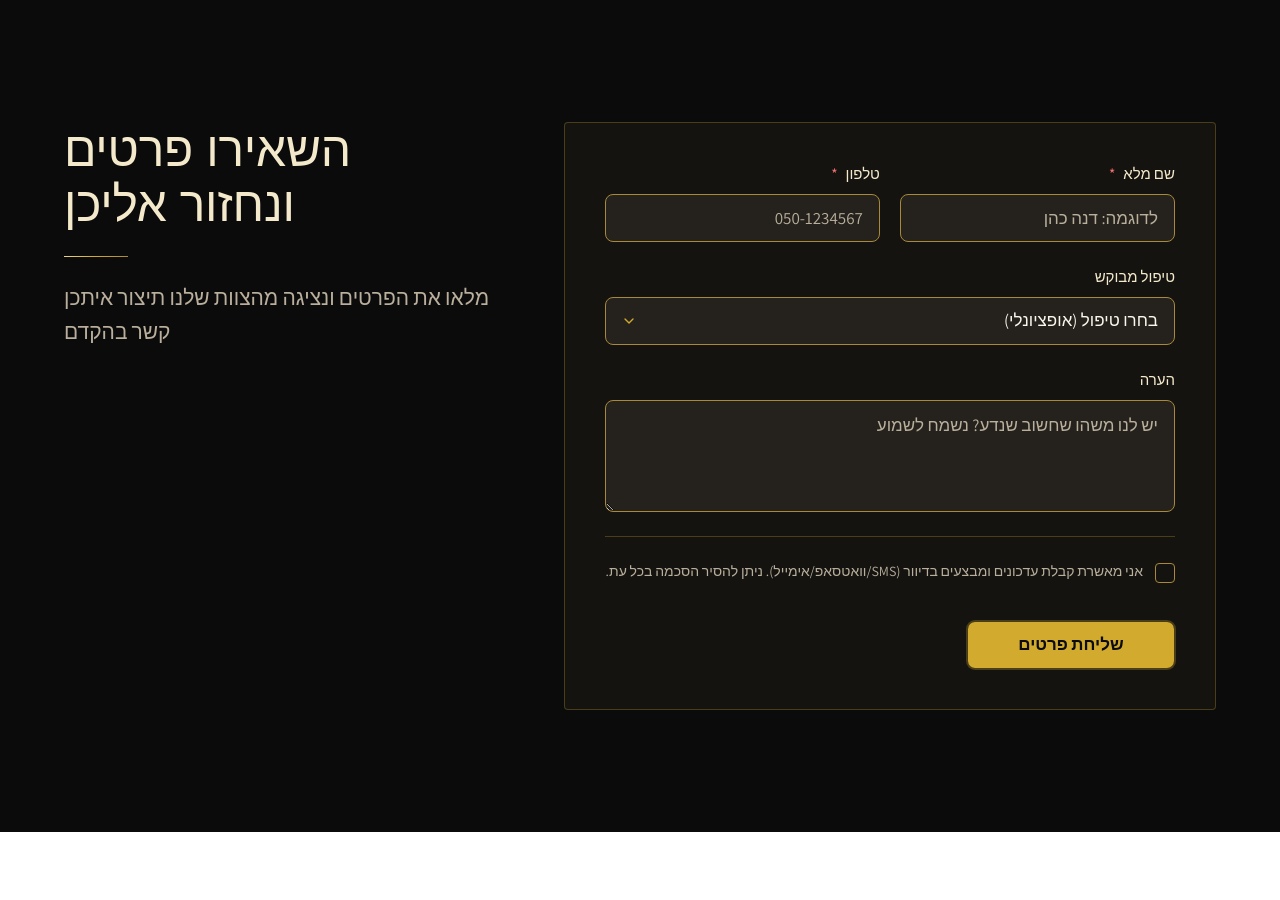
ContactFormSection — success / error states (2.15) › server error: role=alert, error-light tokens, server message shown
Type "בדיקה" into the field labelled "שם מלא *".
click(1037, 218); type("בדיקה")  # box [900,194,1175,242]
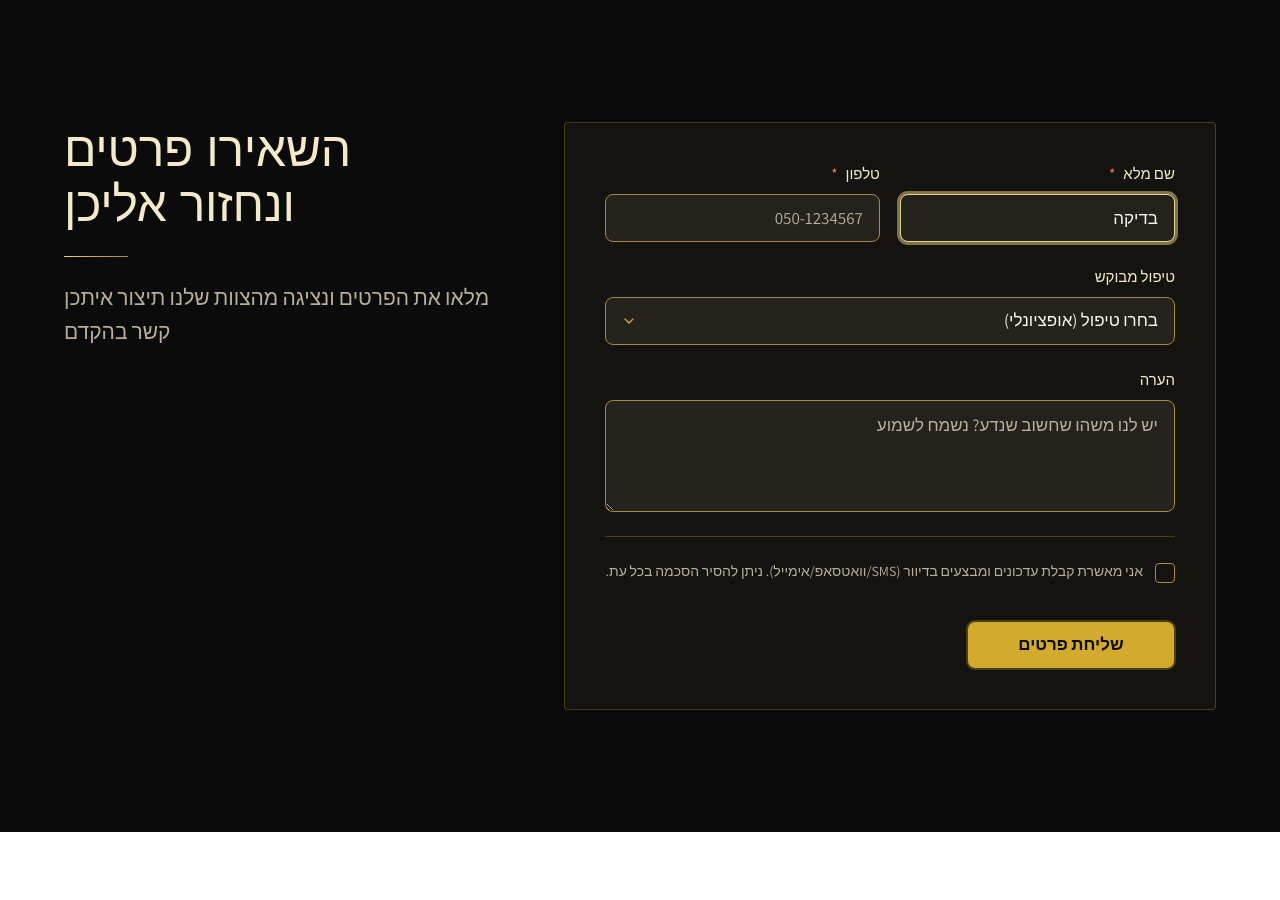
Type "0500000000" into the field labelled "טלפון *".
click(742, 218); type("0500000000")  # box [605,194,880,242]
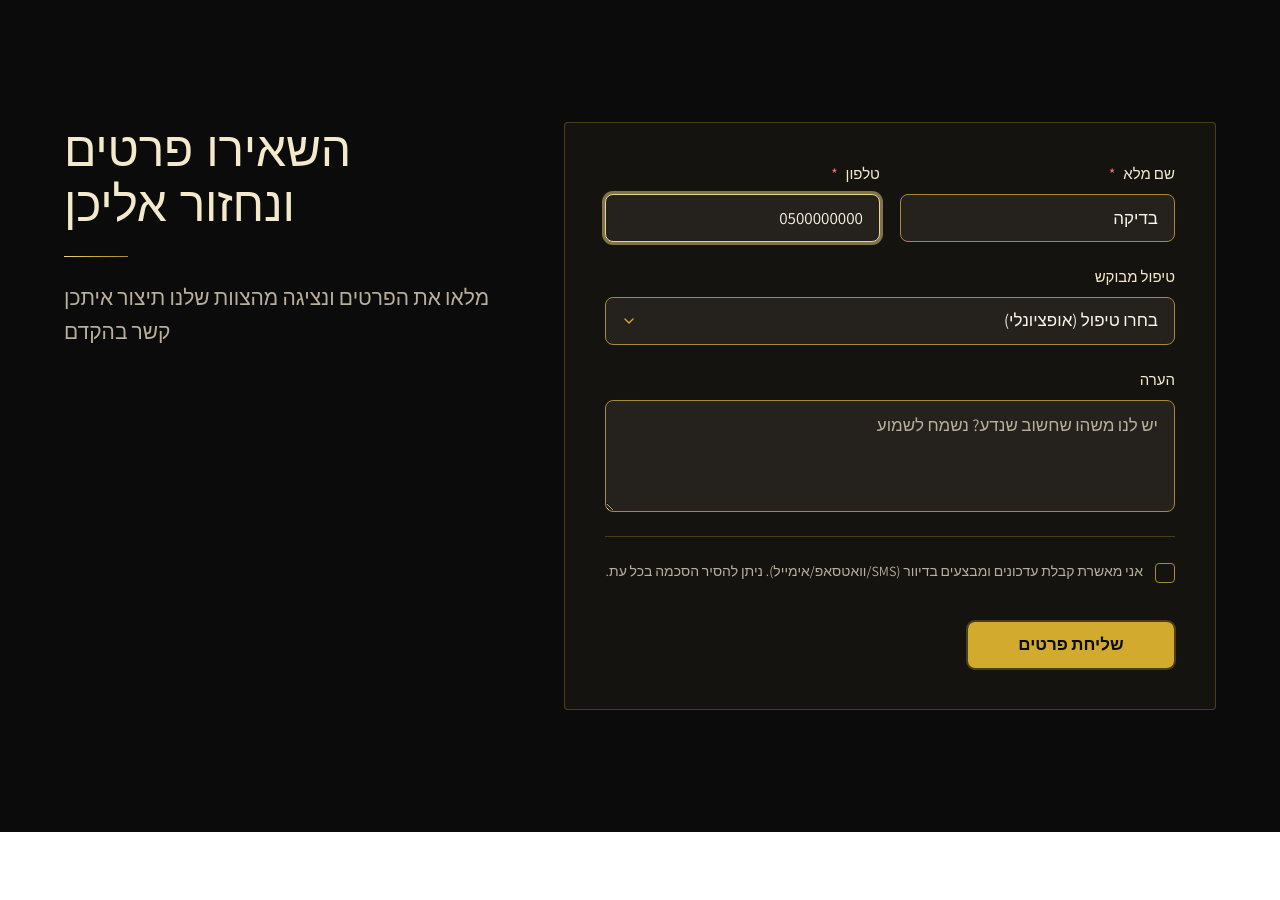
Click the button "שליחת פרטים".
click(1071, 645)  # box [967,621,1175,669]
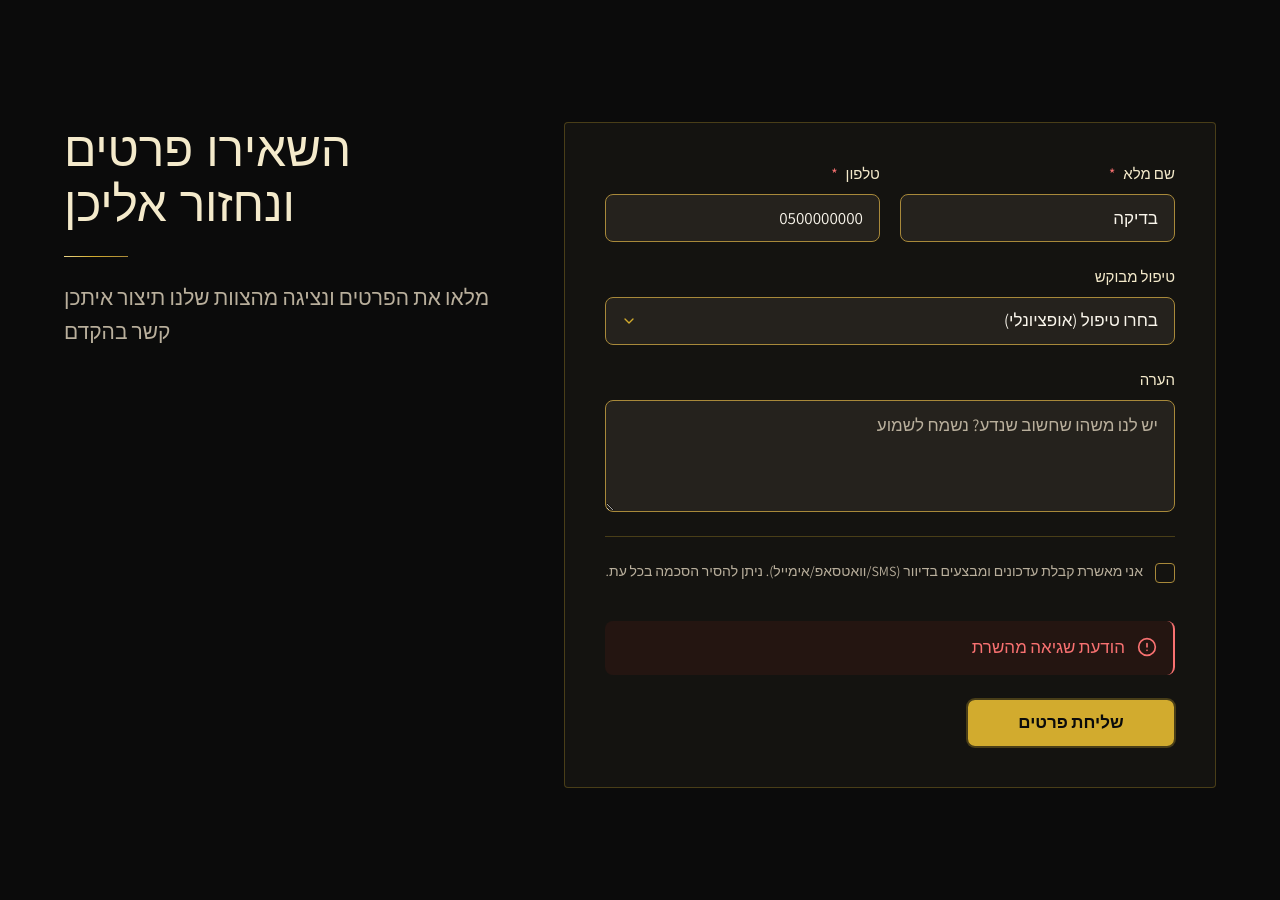
Check: the message reads "הודעת שגיאה מהשרת", box [972,636,1125,658]
